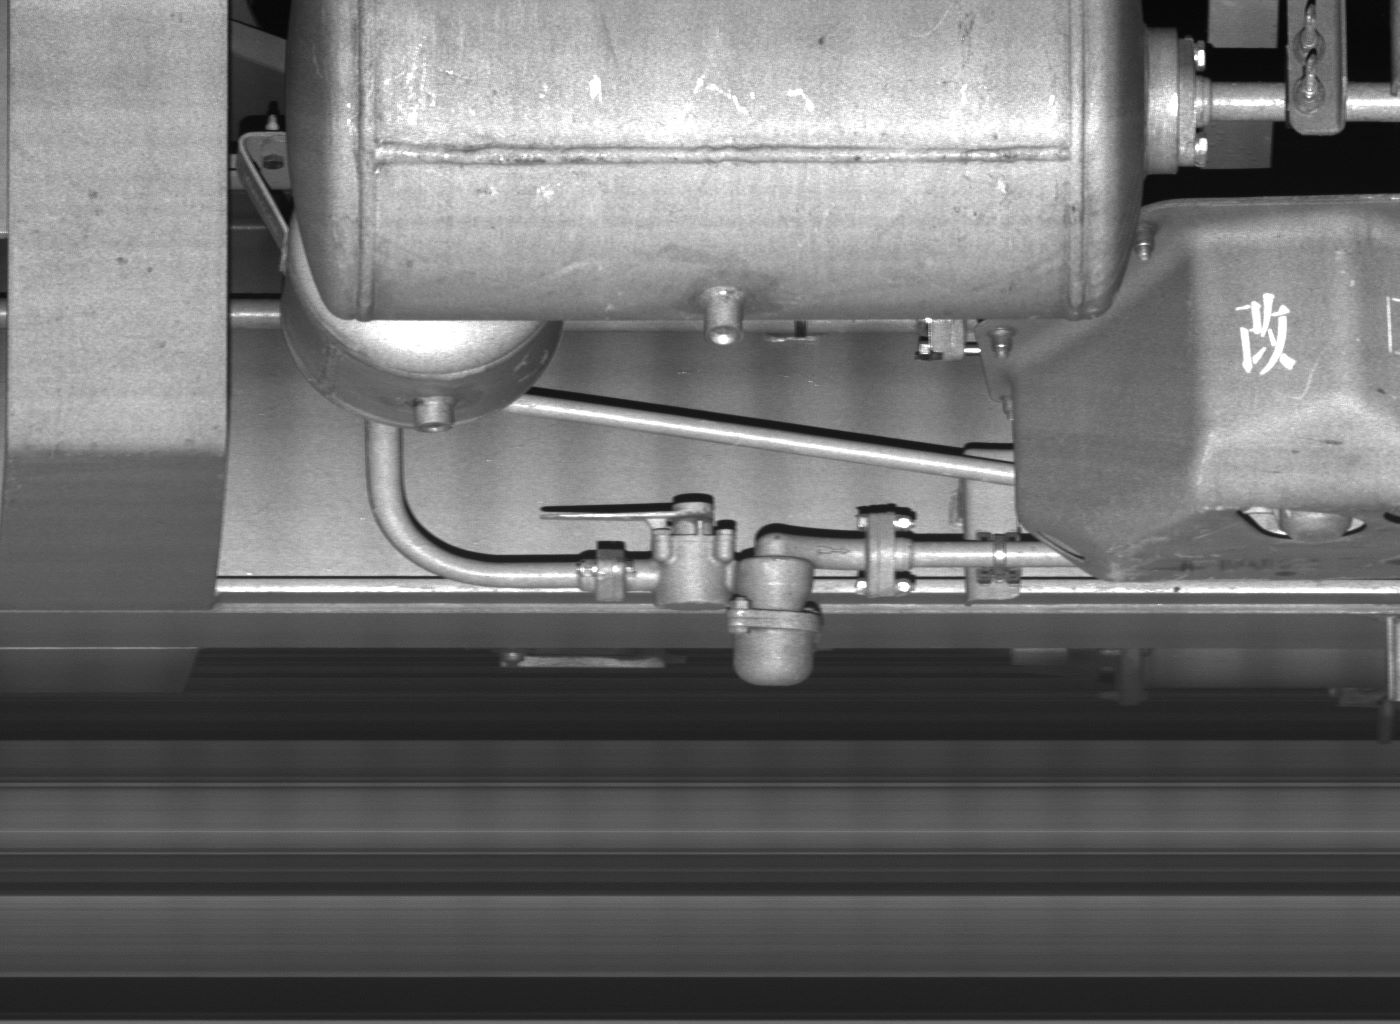normal: (539, 492, 735, 612)
